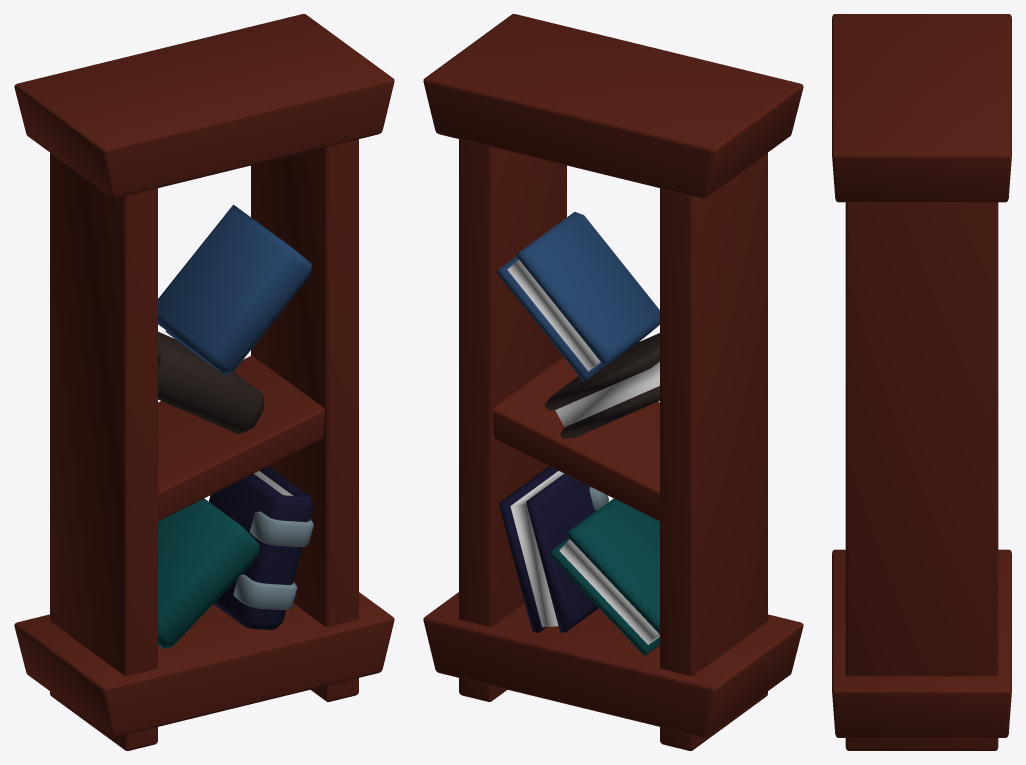
The model's file is bookcaseFilled_broken.obj.
3 renders of one model, left to right at view 1: azimuth 30°, elevation 25°; view 2: azimuth 150°, elevation 25°; view 3: azimuth 270°, elevation 25°, orthographic.
Visible parts, largest first — view 1: bookcaseFilled_broken_Cube.4112; view 2: bookcaseFilled_broken_Cube.4112; view 3: bookcaseFilled_broken_Cube.4112.
Boxes of the visible parts, left/top/right/bottom form: bookcaseFilled_broken_Cube.4112: left=14, top=14, right=394, bottom=750; bookcaseFilled_broken_Cube.4112: left=423, top=14, right=803, bottom=750; bookcaseFilled_broken_Cube.4112: left=832, top=14, right=1011, bottom=750.
Size of the model in its own units: 0.9949 by 2 by 0.5333.
